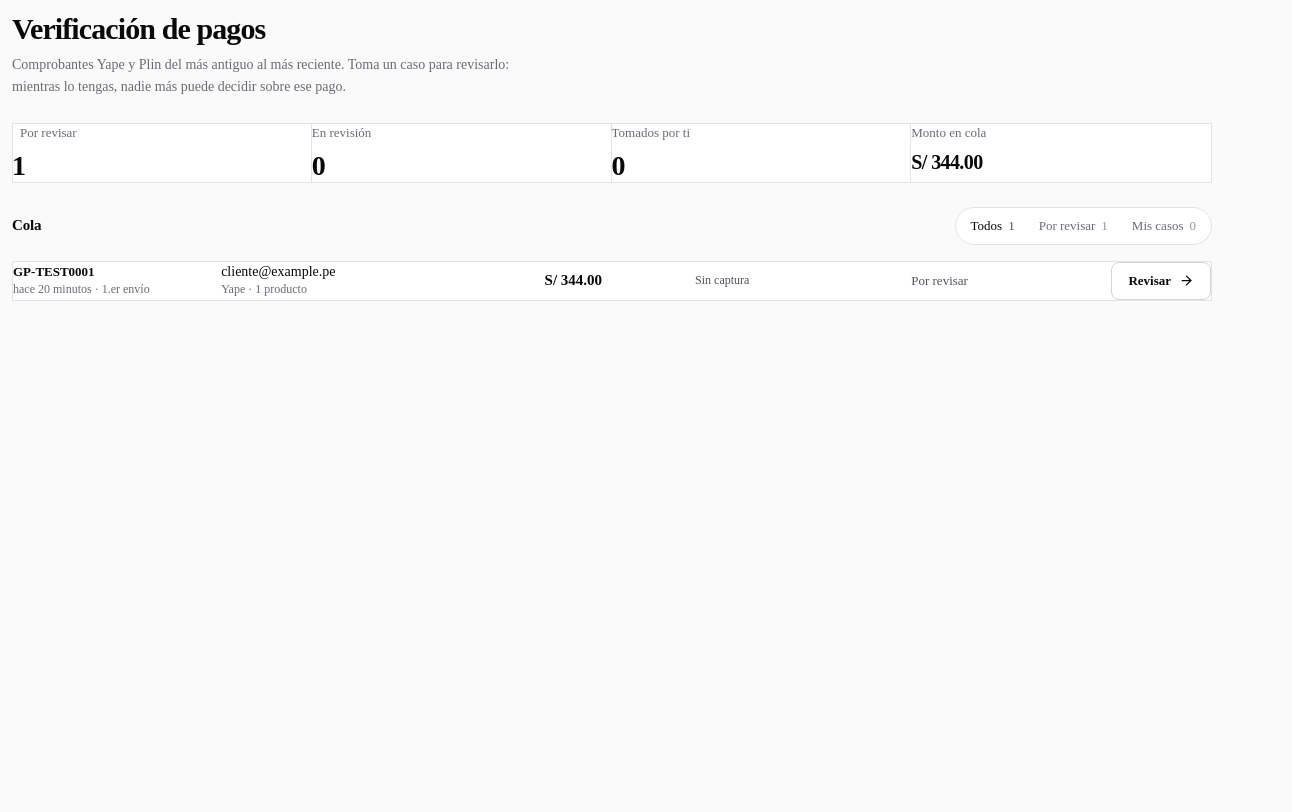
Test: GP-028 — payment verification queue UI › reports a lost claim race instead of opening the drawer
The width and height of the screenshot is (1292, 812).
Step 1. Click the button with aria-label "Revisar el pago del pedido GP-TEST0001" → click(1161, 281), box x1=1111 y1=262 x2=1211 y2=300
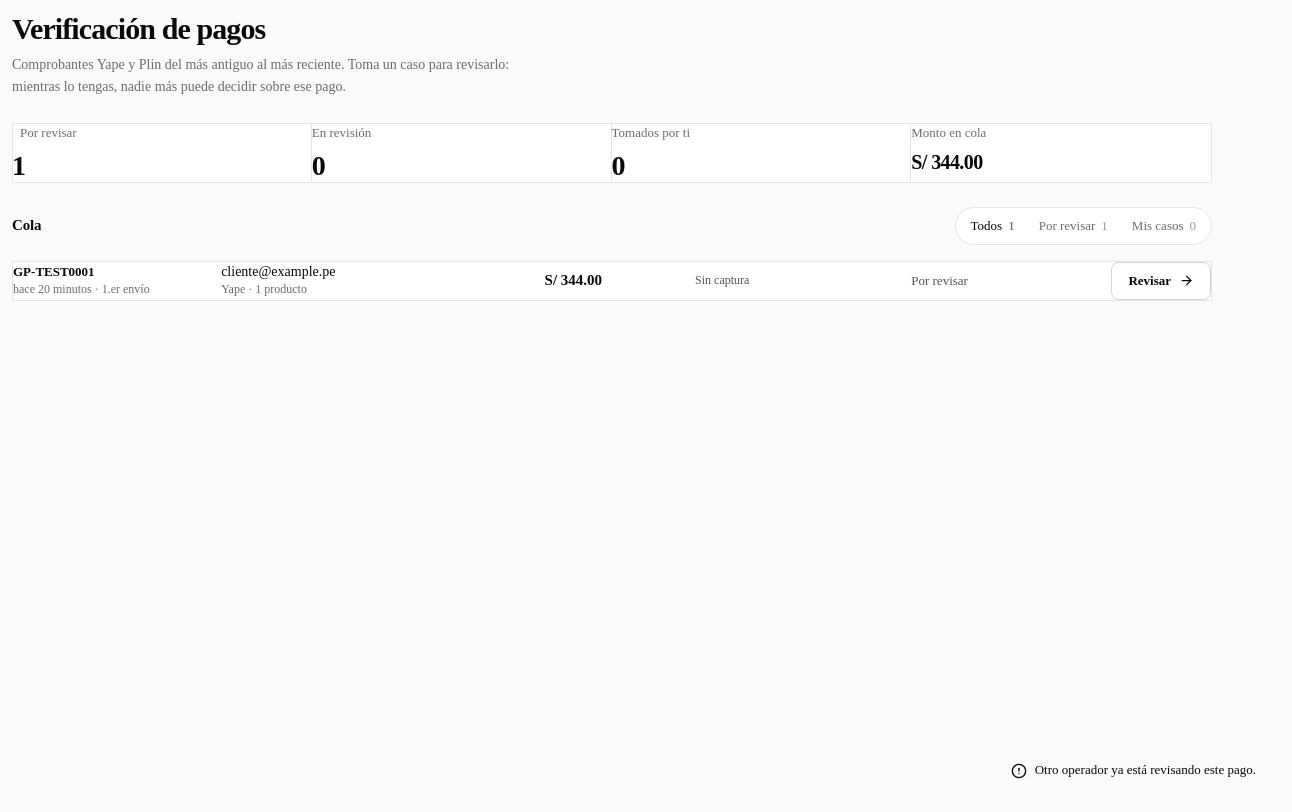
Result: the text "Otro operador ya está revisando este pago." is shown at x1=1035 y1=761 x2=1256 y2=780
